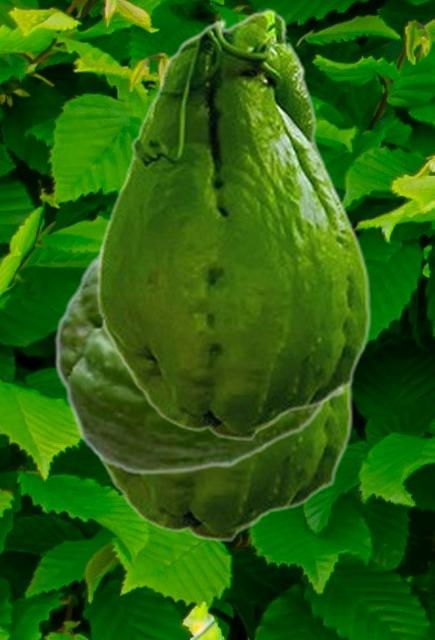sayote: (96, 8, 371, 441), (54, 241, 347, 475), (89, 387, 353, 542)
